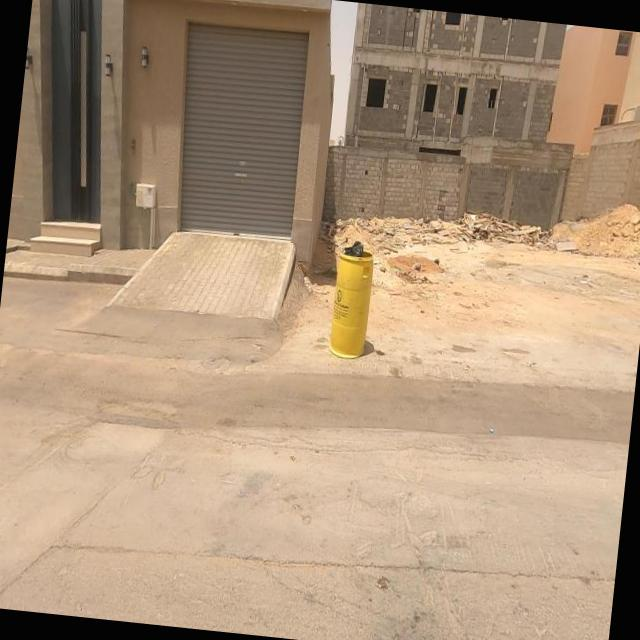debris: (490, 176, 608, 286), (361, 170, 441, 292), (437, 185, 541, 277), (329, 222, 393, 284)
